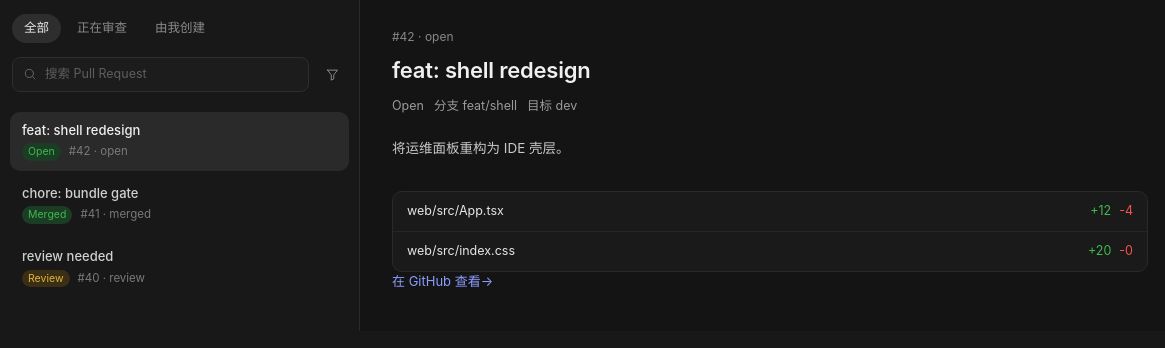
Scenario: PrView › tab 筛选只显示对应条目
Expected: the text "将运维面板重构为 IDE 壳层。" is shown, [392,140,570,156]
Click the tab "正在审查": (102, 28) [65,14,139,43]
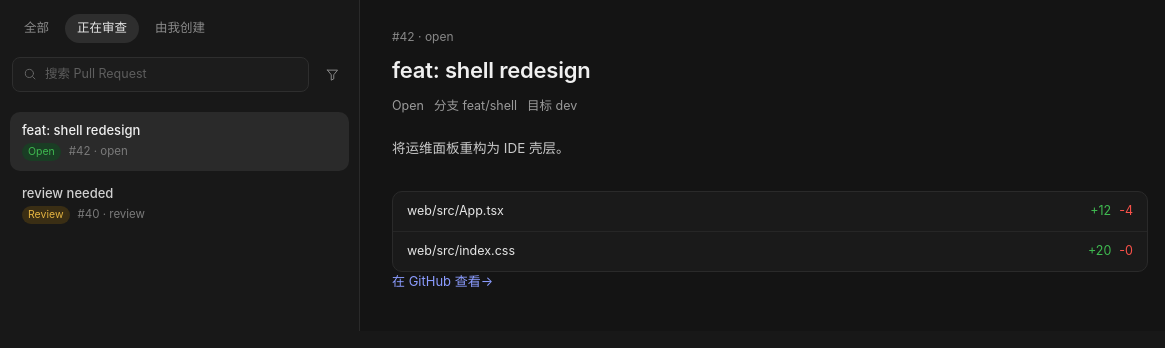
Result: the text "feat: shell redesign" is shown 2 times at [22,122,140,139]; [392,57,590,83]
Result: the text "review needed" is shown once at [22,185,113,202]
Result: no buttons "chore: bundle gate" are shown
Click the tab "由我创建": (180, 28) [143,14,217,43]
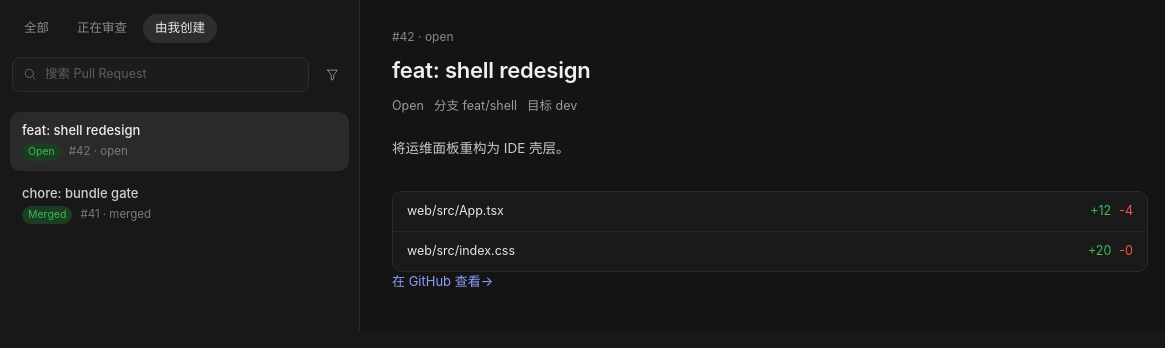
Result: the text "feat: shell redesign" is shown 2 times at [22,122,140,139]; [392,57,590,83]
Result: the text "chore: bundle gate" is shown once at [22,185,138,202]
Result: no buttons "review needed" are shown
